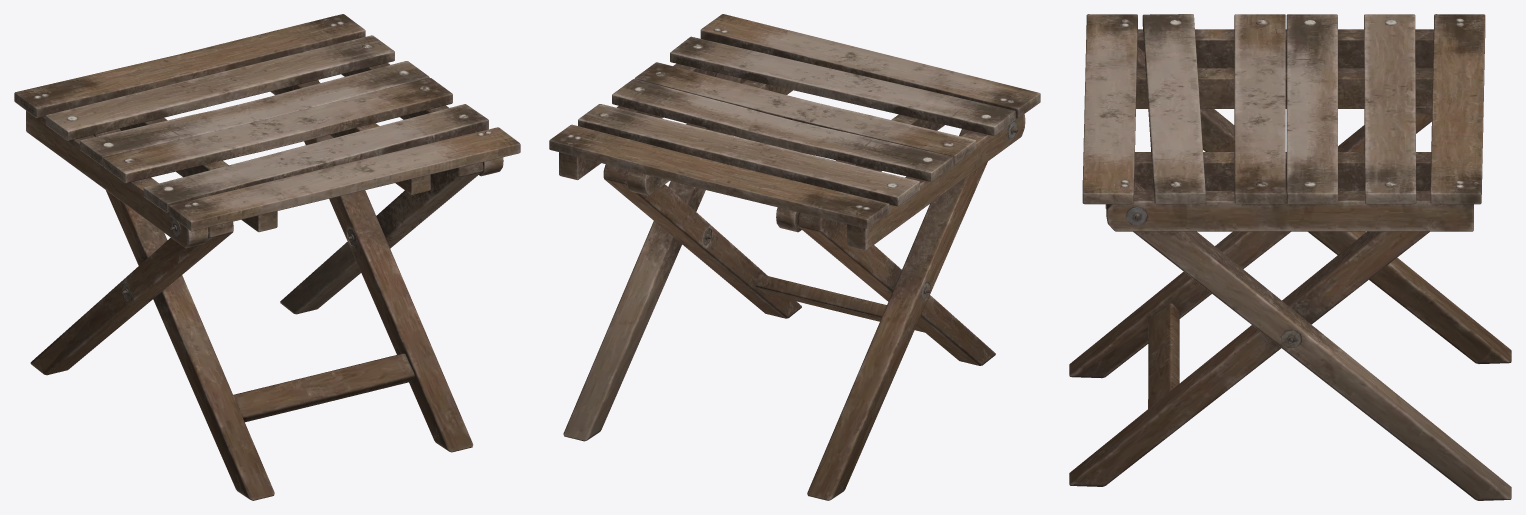
File: folding_wooden_stool.glb
3 renders of one model, left to right at view 1: azimuth 30°, elevation 25°; view 2: azimuth 150°, elevation 25°; view 3: azimuth 270°, elevation 25°, orthographic. The views are drawn at different scales.
Visible parts, largest first — view 1: folding_wooden_stool; view 2: folding_wooden_stool; view 3: folding_wooden_stool.
Part boxes in pixels (left/top/right/bottom): folding_wooden_stool: left=14, top=14, right=520, bottom=500; folding_wooden_stool: left=549, top=14, right=1040, bottom=500; folding_wooden_stool: left=1069, top=14, right=1511, bottom=500.
Bounding box in the file's own units: 0.5278 × 0.442 × 0.5471.
Materials: 1 (1 with a texture image).
